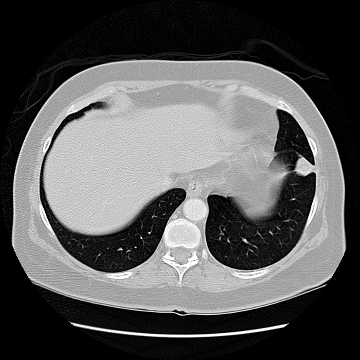nodule: (294, 157, 314, 177)
